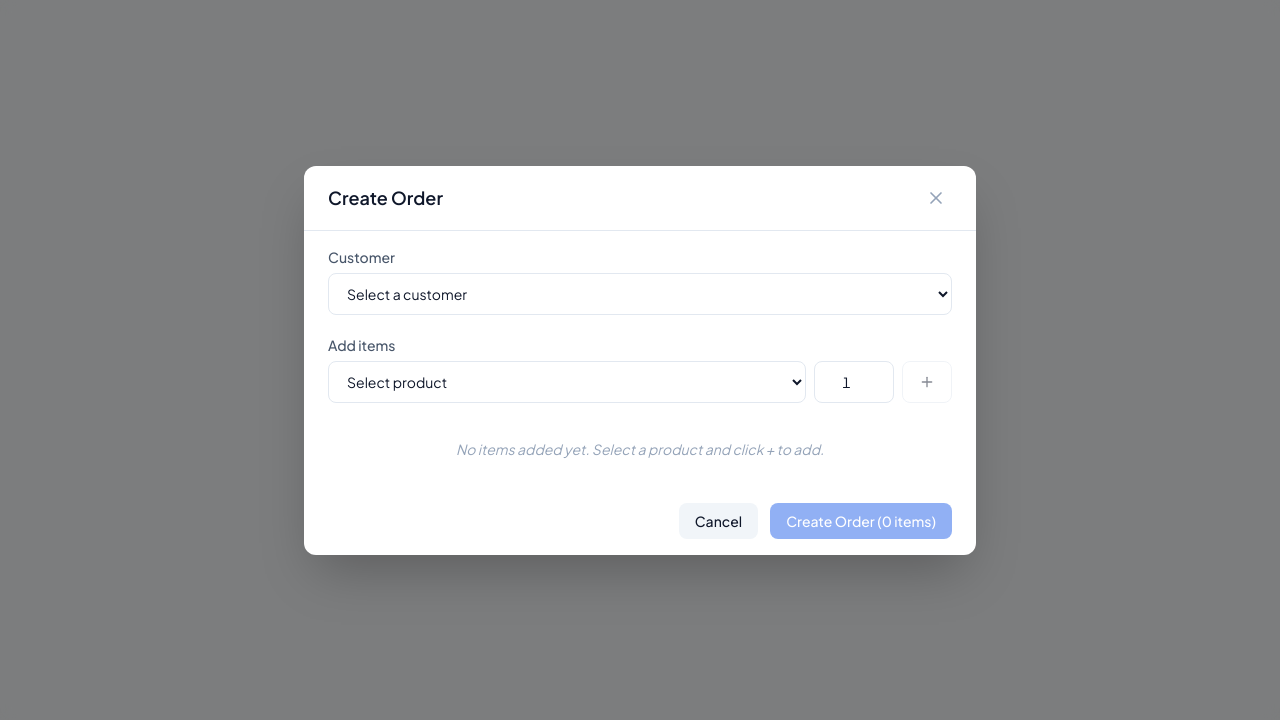
Test case: CreateOrderModal › removes an item from the list when the delete button is clicked
The image size is (1280, 720).
Note: Helper: add one product to the line items
Select "Widget Pro ($29.99)" in the 2nd dropdown at x=567, y=382, box [328, 360, 806, 402]
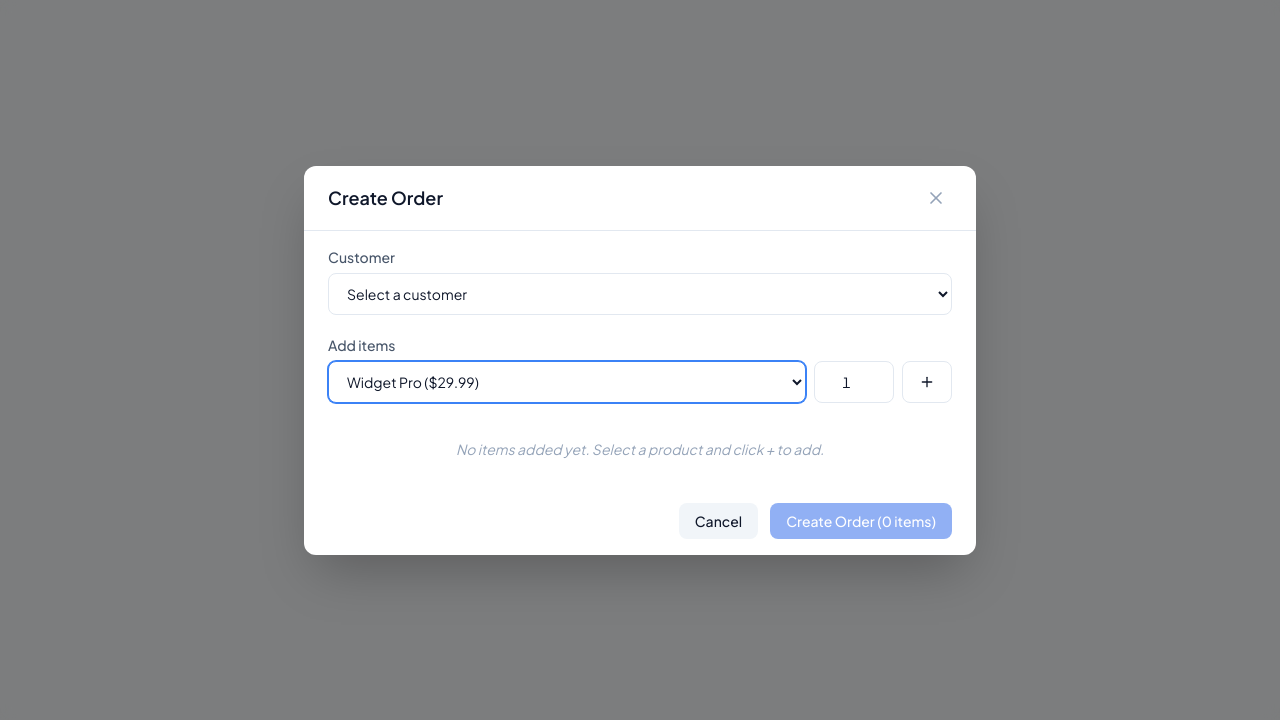
Click the 2nd button at x=927, y=382, box [902, 360, 952, 402]
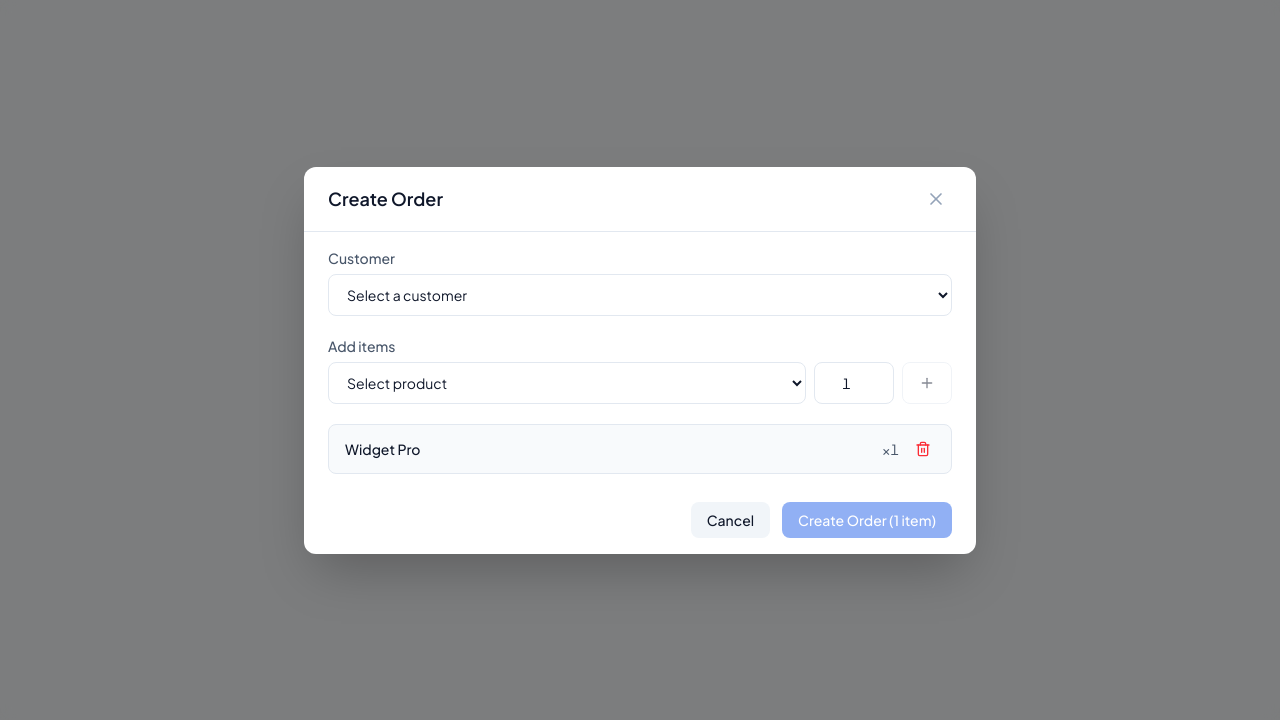
Expected: the text "Widget Pro" is shown, [345, 438, 420, 458]
Click the button without text in the row of "Widget Pro" at x=923, y=448, box [911, 436, 935, 460]
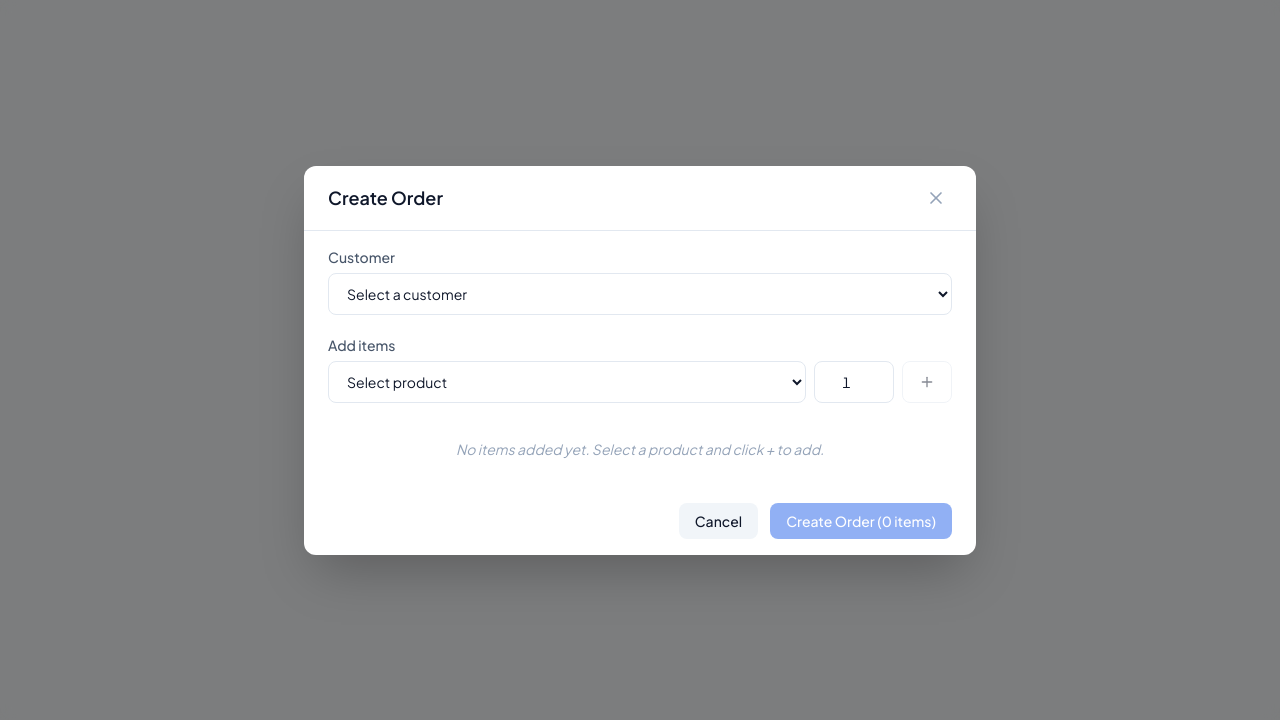
Expected: the text "Widget Pro" is gone
